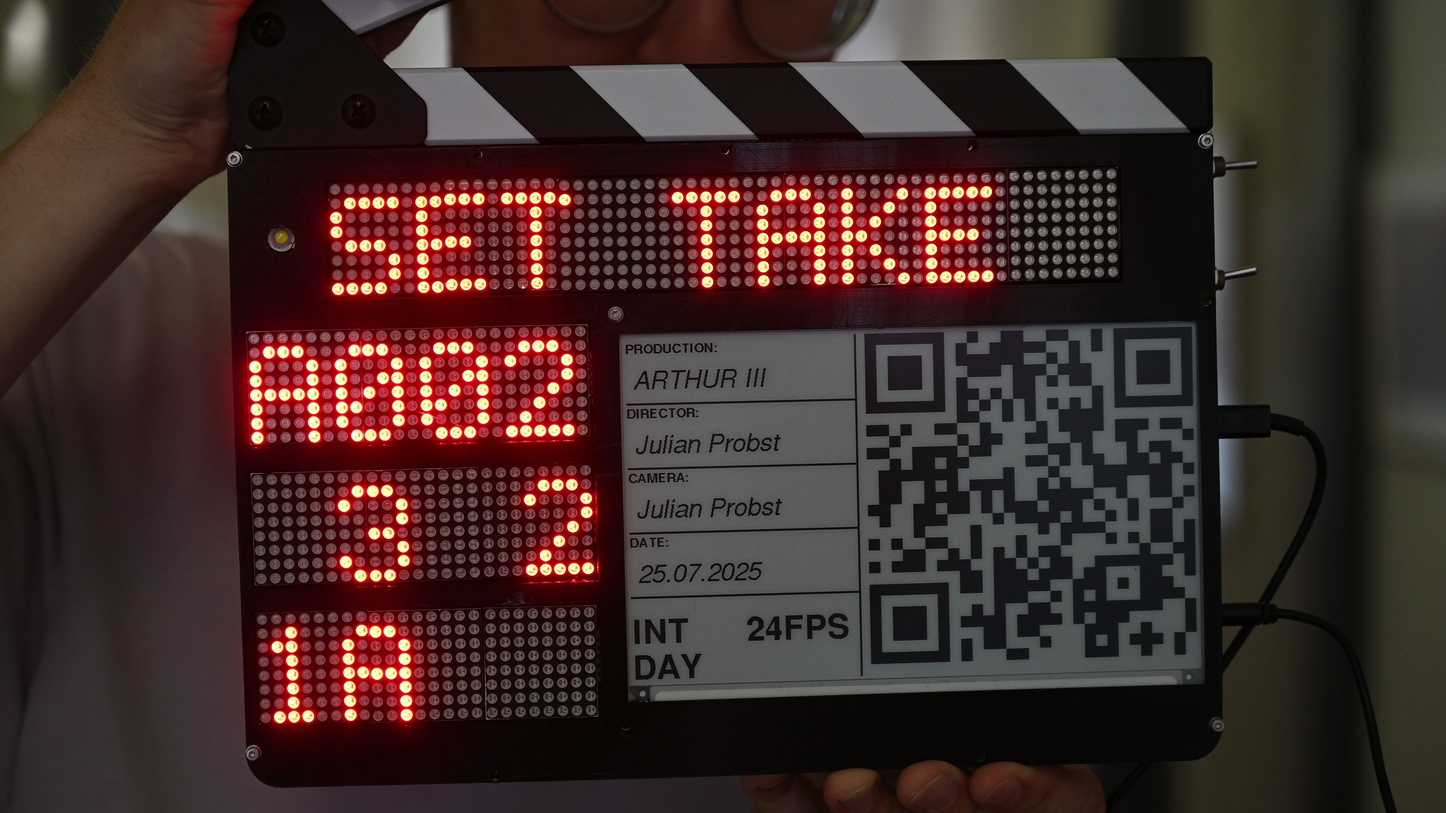ARC-SLATE: (228, 58, 1224, 791)
